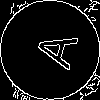A: (25, 25, 79, 71)
